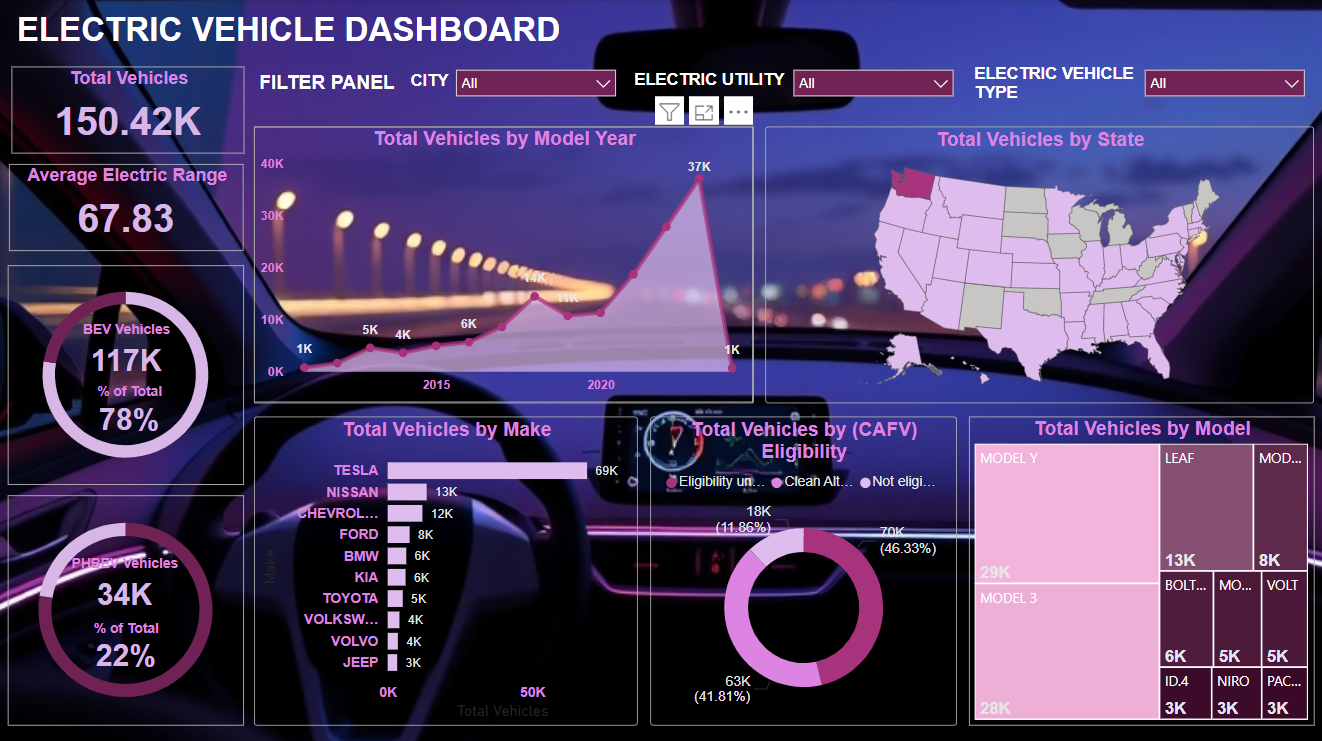

What the dashboard file says about the page in this screenshot:
{"tool":"powerbi","page":{"name":"Page 1","canvas":[1280,720],"ordinal":0},"visuals":[{"type":"textbox","box":[11.5,7.2,577.1,50.5],"z":0},{"type":"card","title":"Total Vehicles","fields":{"Values":["Electric_Vehicle_Population_Data.Total Vehicles"]},"box":[11.5,64.9,225.1,83.7],"z":1000},{"type":"card","title":"Average Electric Range","fields":{"Values":["Avg(Electric_Vehicle_Population_Data.Electric Range)"]},"box":[10.1,158.7,226.5,83.7],"z":2000},{"type":"donutChart","fields":{"Category":["Electric_Vehicle_Population_Data.Electric Vehicle Type"],"Y":["Electric_Vehicle_Population_Data.Total Vehicles"]},"box":[8.7,256.8,228,212.1],"z":3000},{"type":"card","title":"BEV Vehicles","fields":{"Values":["Electric_Vehicle_Population_Data.BEV"]},"box":[67.8,311.6,111.1,59.2],"z":4000},{"type":"card","title":"% of Total","fields":{"Values":["Electric_Vehicle_Population_Data.Percentage of BEV"]},"box":[65.1,371.6,121.9,51.9],"z":5000},{"type":"donutChart","fields":{"Category":["Electric_Vehicle_Population_Data.Electric Vehicle Type"],"Y":["Electric_Vehicle_Population_Data.Total Vehicles"]},"box":[8.7,479,228,222.2],"z":6000},{"type":"card","title":"% of Total","fields":{"Values":["Electric_Vehicle_Population_Data.Percentage of PHBEV"]},"box":[62,600.2,122.6,51.9],"z":7000},{"type":"card","title":"PHBEV Vehicles","fields":{"Values":["Electric_Vehicle_Population_Data.PHBEV"]},"box":[62,536.7,119.7,59.2],"z":8000},{"type":"areaChart","fields":{"Category":["Electric_Vehicle_Population_Data.Model Year"],"Y":["Electric_Vehicle_Population_Data.Total Vehicles"]},"box":[246.7,122.6,481.9,266.9],"z":9000},{"type":"shapeMap","title":"Total Vehicles by State","fields":{"Category":["Electric_Vehicle_Population_Data.State"],"Value":["Electric_Vehicle_Population_Data.Total Vehicles"]},"box":[740.1,122.6,529.5,266.9],"z":10000},{"type":"barChart","fields":{"Category":["Electric_Vehicle_Population_Data.Make"],"Y":["Electric_Vehicle_Population_Data.Total Vehicles"]},"box":[246.7,402.5,370.8,298.7],"z":11000},{"type":"donutChart","title":"Total Vehicles by (CAFV) Eligibility","fields":{"Category":["Electric_Vehicle_Population_Data.Clean Alternative Fuel Vehicle (CAFV) Eligibility"],"Y":["Electric_Vehicle_Population_Data.Total Vehicles"]},"box":[629,402.5,295.8,298.7],"z":12000},{"type":"treemap","fields":{"Group":["Electric_Vehicle_Population_Data.Model"],"Values":["Electric_Vehicle_Population_Data.Total Vehicles"]},"box":[936.4,402.5,333.3,298.7],"z":13000},{"type":"textbox","box":[246.7,64.9,157.3,39],"z":14000},{"type":"slicer","fields":{"Values":["Electric_Vehicle_Population_Data.City"]},"box":[430.7,57.9,174.9,45.8],"z":15000},{"type":"textbox","box":[392.1,65.1,62.7,41],"z":16000},{"type":"textbox","box":[607.8,63.9,170.1,41],"z":17000},{"type":"slicer","fields":{"Values":["Electric_Vehicle_Population_Data.Electric Utility"]},"box":[756.4,57.9,174.9,45.8],"z":18000},{"type":"textbox","box":[936.4,57.7,170.2,47.6],"z":19000},{"type":"slicer","fields":{"Values":["Electric_Vehicle_Population_Data.Electric Vehicle Type"]},"box":[1095.1,57.7,174.6,46.2],"z":20000}]}

Visuals, with their boxes in screenshot pixels (x1, y1, x2, y2), scaled from the page's 1280x720 canvas onto the 1322x741 screenshot:
textbox: [left=12, top=7, right=608, bottom=59]
"Total Vehicles" card: [left=12, top=67, right=244, bottom=153]
"Average Electric Range" card: [left=10, top=163, right=244, bottom=249]
donutChart - Electric_Vehicle_Population_Data.Electric Vehicle Type x Electric_Vehicle_Population_Data.Total Vehicles: [left=9, top=264, right=244, bottom=483]
"BEV Vehicles" card: [left=70, top=321, right=185, bottom=382]
"% of Total" card: [left=67, top=382, right=193, bottom=436]
donutChart - Electric_Vehicle_Population_Data.Electric Vehicle Type x Electric_Vehicle_Population_Data.Total Vehicles: [left=9, top=493, right=244, bottom=722]
"% of Total" card: [left=64, top=618, right=191, bottom=671]
"PHBEV Vehicles" card: [left=64, top=552, right=188, bottom=613]
areaChart - Electric_Vehicle_Population_Data.Model Year x Electric_Vehicle_Population_Data.Total Vehicles: [left=255, top=126, right=753, bottom=401]
"Total Vehicles by State" shapeMap: [left=764, top=126, right=1311, bottom=401]
barChart - Electric_Vehicle_Population_Data.Make x Electric_Vehicle_Population_Data.Total Vehicles: [left=255, top=414, right=638, bottom=722]
"Total Vehicles by (CAFV) Eligibility" donutChart: [left=650, top=414, right=955, bottom=722]
treemap - Electric_Vehicle_Population_Data.Model x Electric_Vehicle_Population_Data.Total Vehicles: [left=967, top=414, right=1311, bottom=722]
textbox: [left=255, top=67, right=417, bottom=107]
slicer - Electric_Vehicle_Population_Data.City: [left=445, top=60, right=625, bottom=107]
textbox: [left=405, top=67, right=470, bottom=109]
textbox: [left=628, top=66, right=803, bottom=108]
slicer - Electric_Vehicle_Population_Data.Electric Utility: [left=781, top=60, right=962, bottom=107]
textbox: [left=967, top=59, right=1143, bottom=108]
slicer - Electric_Vehicle_Population_Data.Electric Vehicle Type: [left=1131, top=59, right=1311, bottom=107]
